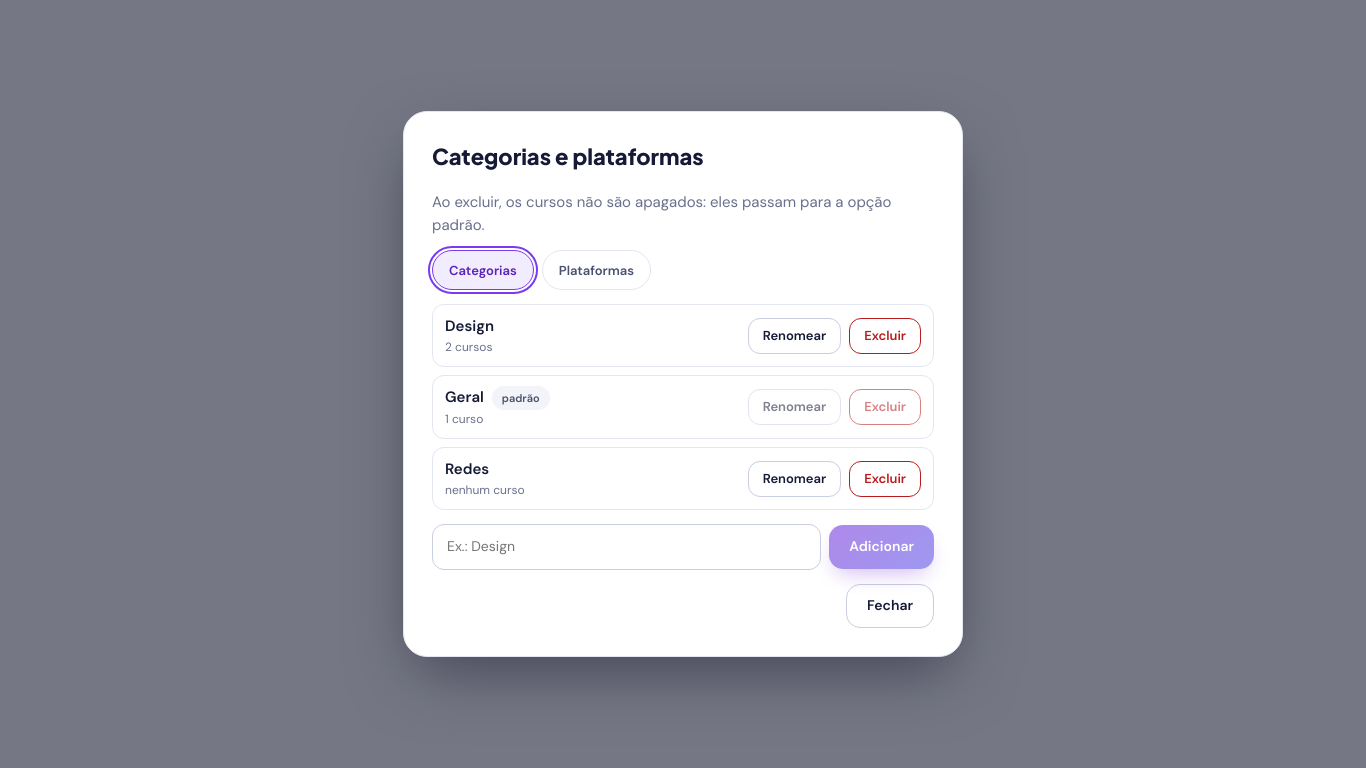
Test: ManageOptions › erro da API aparece na tela
Click the button "Excluir" in the row of "Design" at (885, 336), box [849,318,921,354]
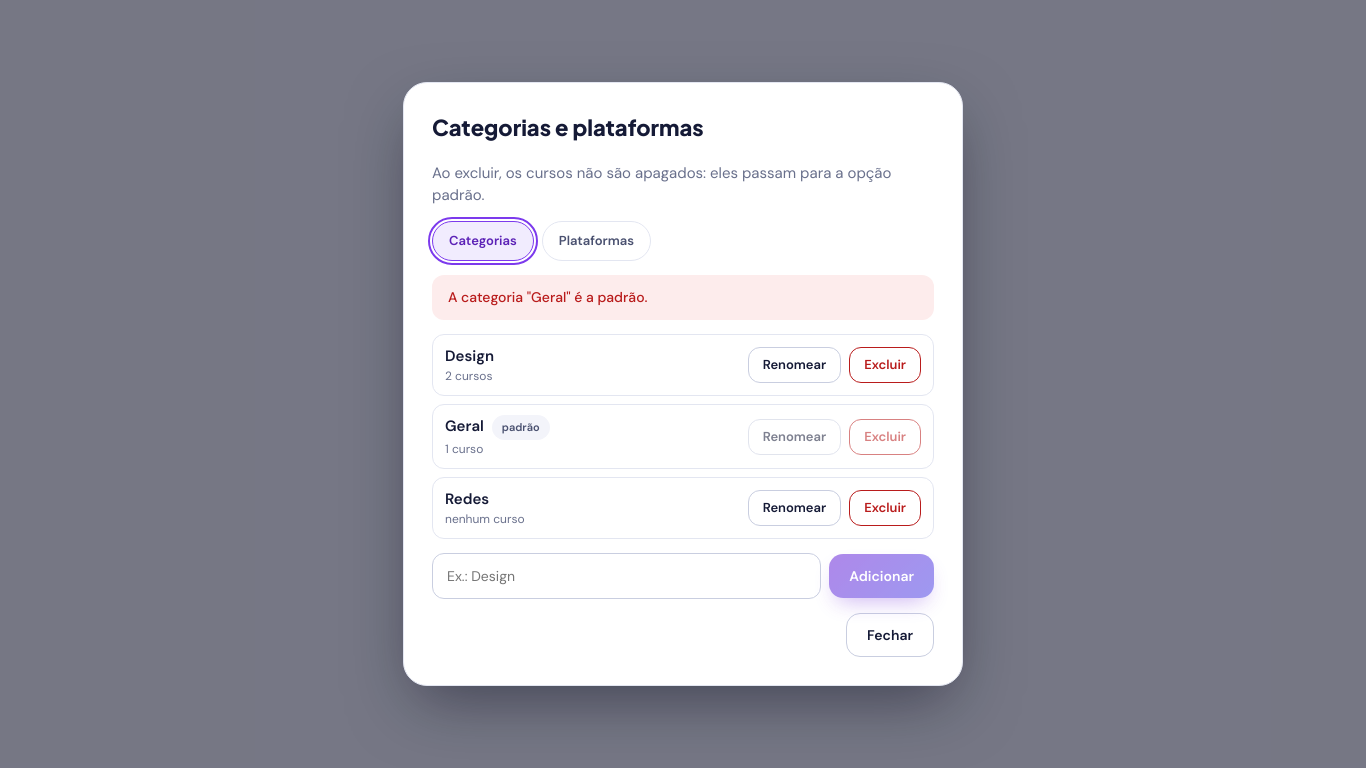
Expected: the message "A categoria \"Geral\" é a padrão." is shown, [432,275,934,320]
